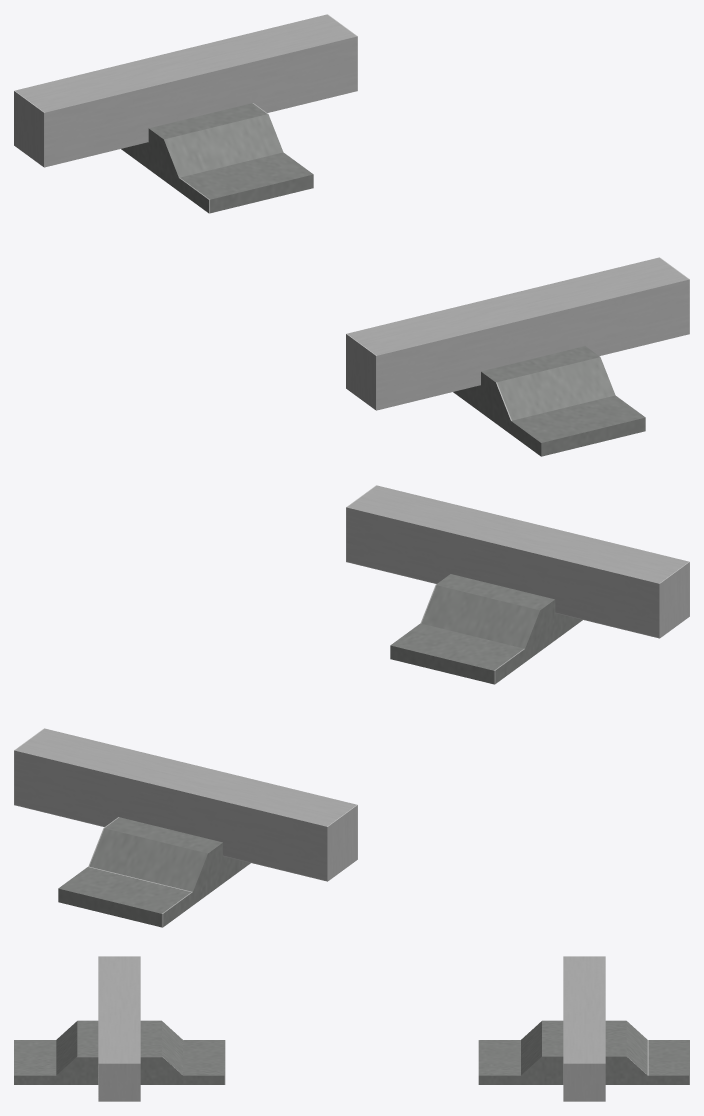
Rendered from rail_ns_curved.obj.
The picture shows the model from 3 angles, top to bottom: view 1: azimuth 30°, elevation 25°; view 2: azimuth 150°, elevation 25°; view 3: azimuth 270°, elevation 25°; orthographic projection. The views are drawn at different scales.
Visible parts, largest first — view 1: r1, r2, b4; view 2: r1, r2, b4; view 3: b4, r1, r2.
Part boxes in pixels (x1,y1,x2,y2): r1: (14,14,357,167); r2: (346,257,689,410); b4: (121,103,645,456); r1: (14,728,357,881); r2: (346,485,689,638); b4: (58,574,582,927); b4: (14,1020,689,1084); r1: (563,956,605,1101); r2: (98,956,140,1101).
Bounding box in the file's own units: 0.375 × 0.0938 × 1.
